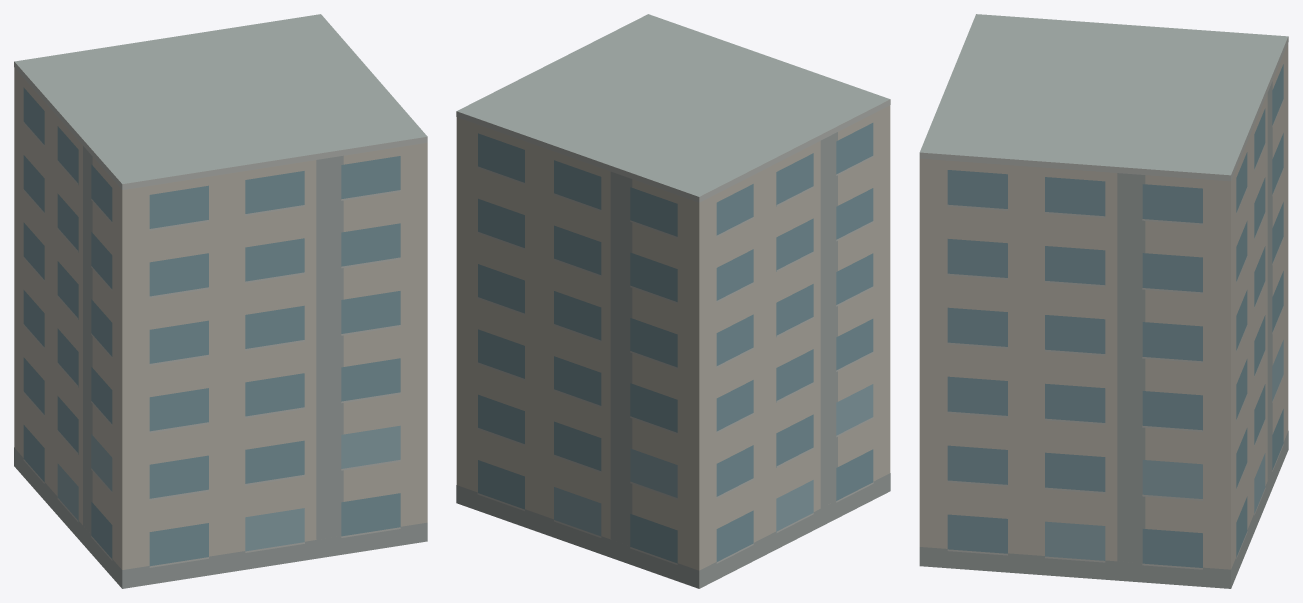
File: survey-upis-32911739.glb
3 renders of one model, left to right at view 1: azimuth 30°, elevation 25°; view 2: azimuth 150°, elevation 25°; view 3: azimuth 270°, elevation 25°, orthographic. The views are drawn at different scales.
Parts seen in each view (by area): view 1: survey-upis-32911739.tmp; view 2: survey-upis-32911739.tmp; view 3: survey-upis-32911739.tmp.
Part boxes in pixels (bbox=[...]): survey-upis-32911739.tmp: bbox=[14, 14, 427, 588]; survey-upis-32911739.tmp: bbox=[456, 14, 890, 588]; survey-upis-32911739.tmp: bbox=[919, 14, 1288, 588].
Bounding box in the file's own units: 13.89 × 16.6 × 13.42.
